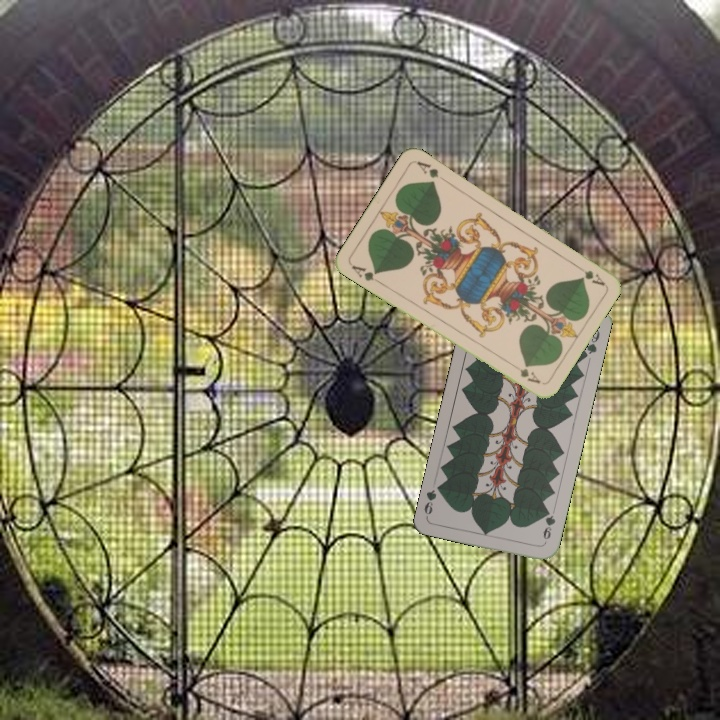G9: (539, 505, 558, 546)
GA: (571, 260, 608, 288), (347, 261, 384, 287)
